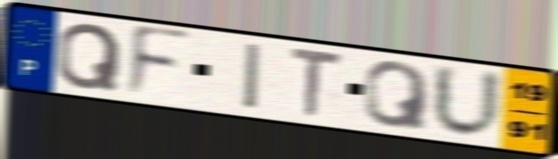F: (123, 22, 195, 101)
I: (242, 40, 265, 113)
Q: (362, 60, 434, 133), (53, 21, 124, 91)
T: (287, 45, 346, 121)
U: (429, 61, 505, 141)
